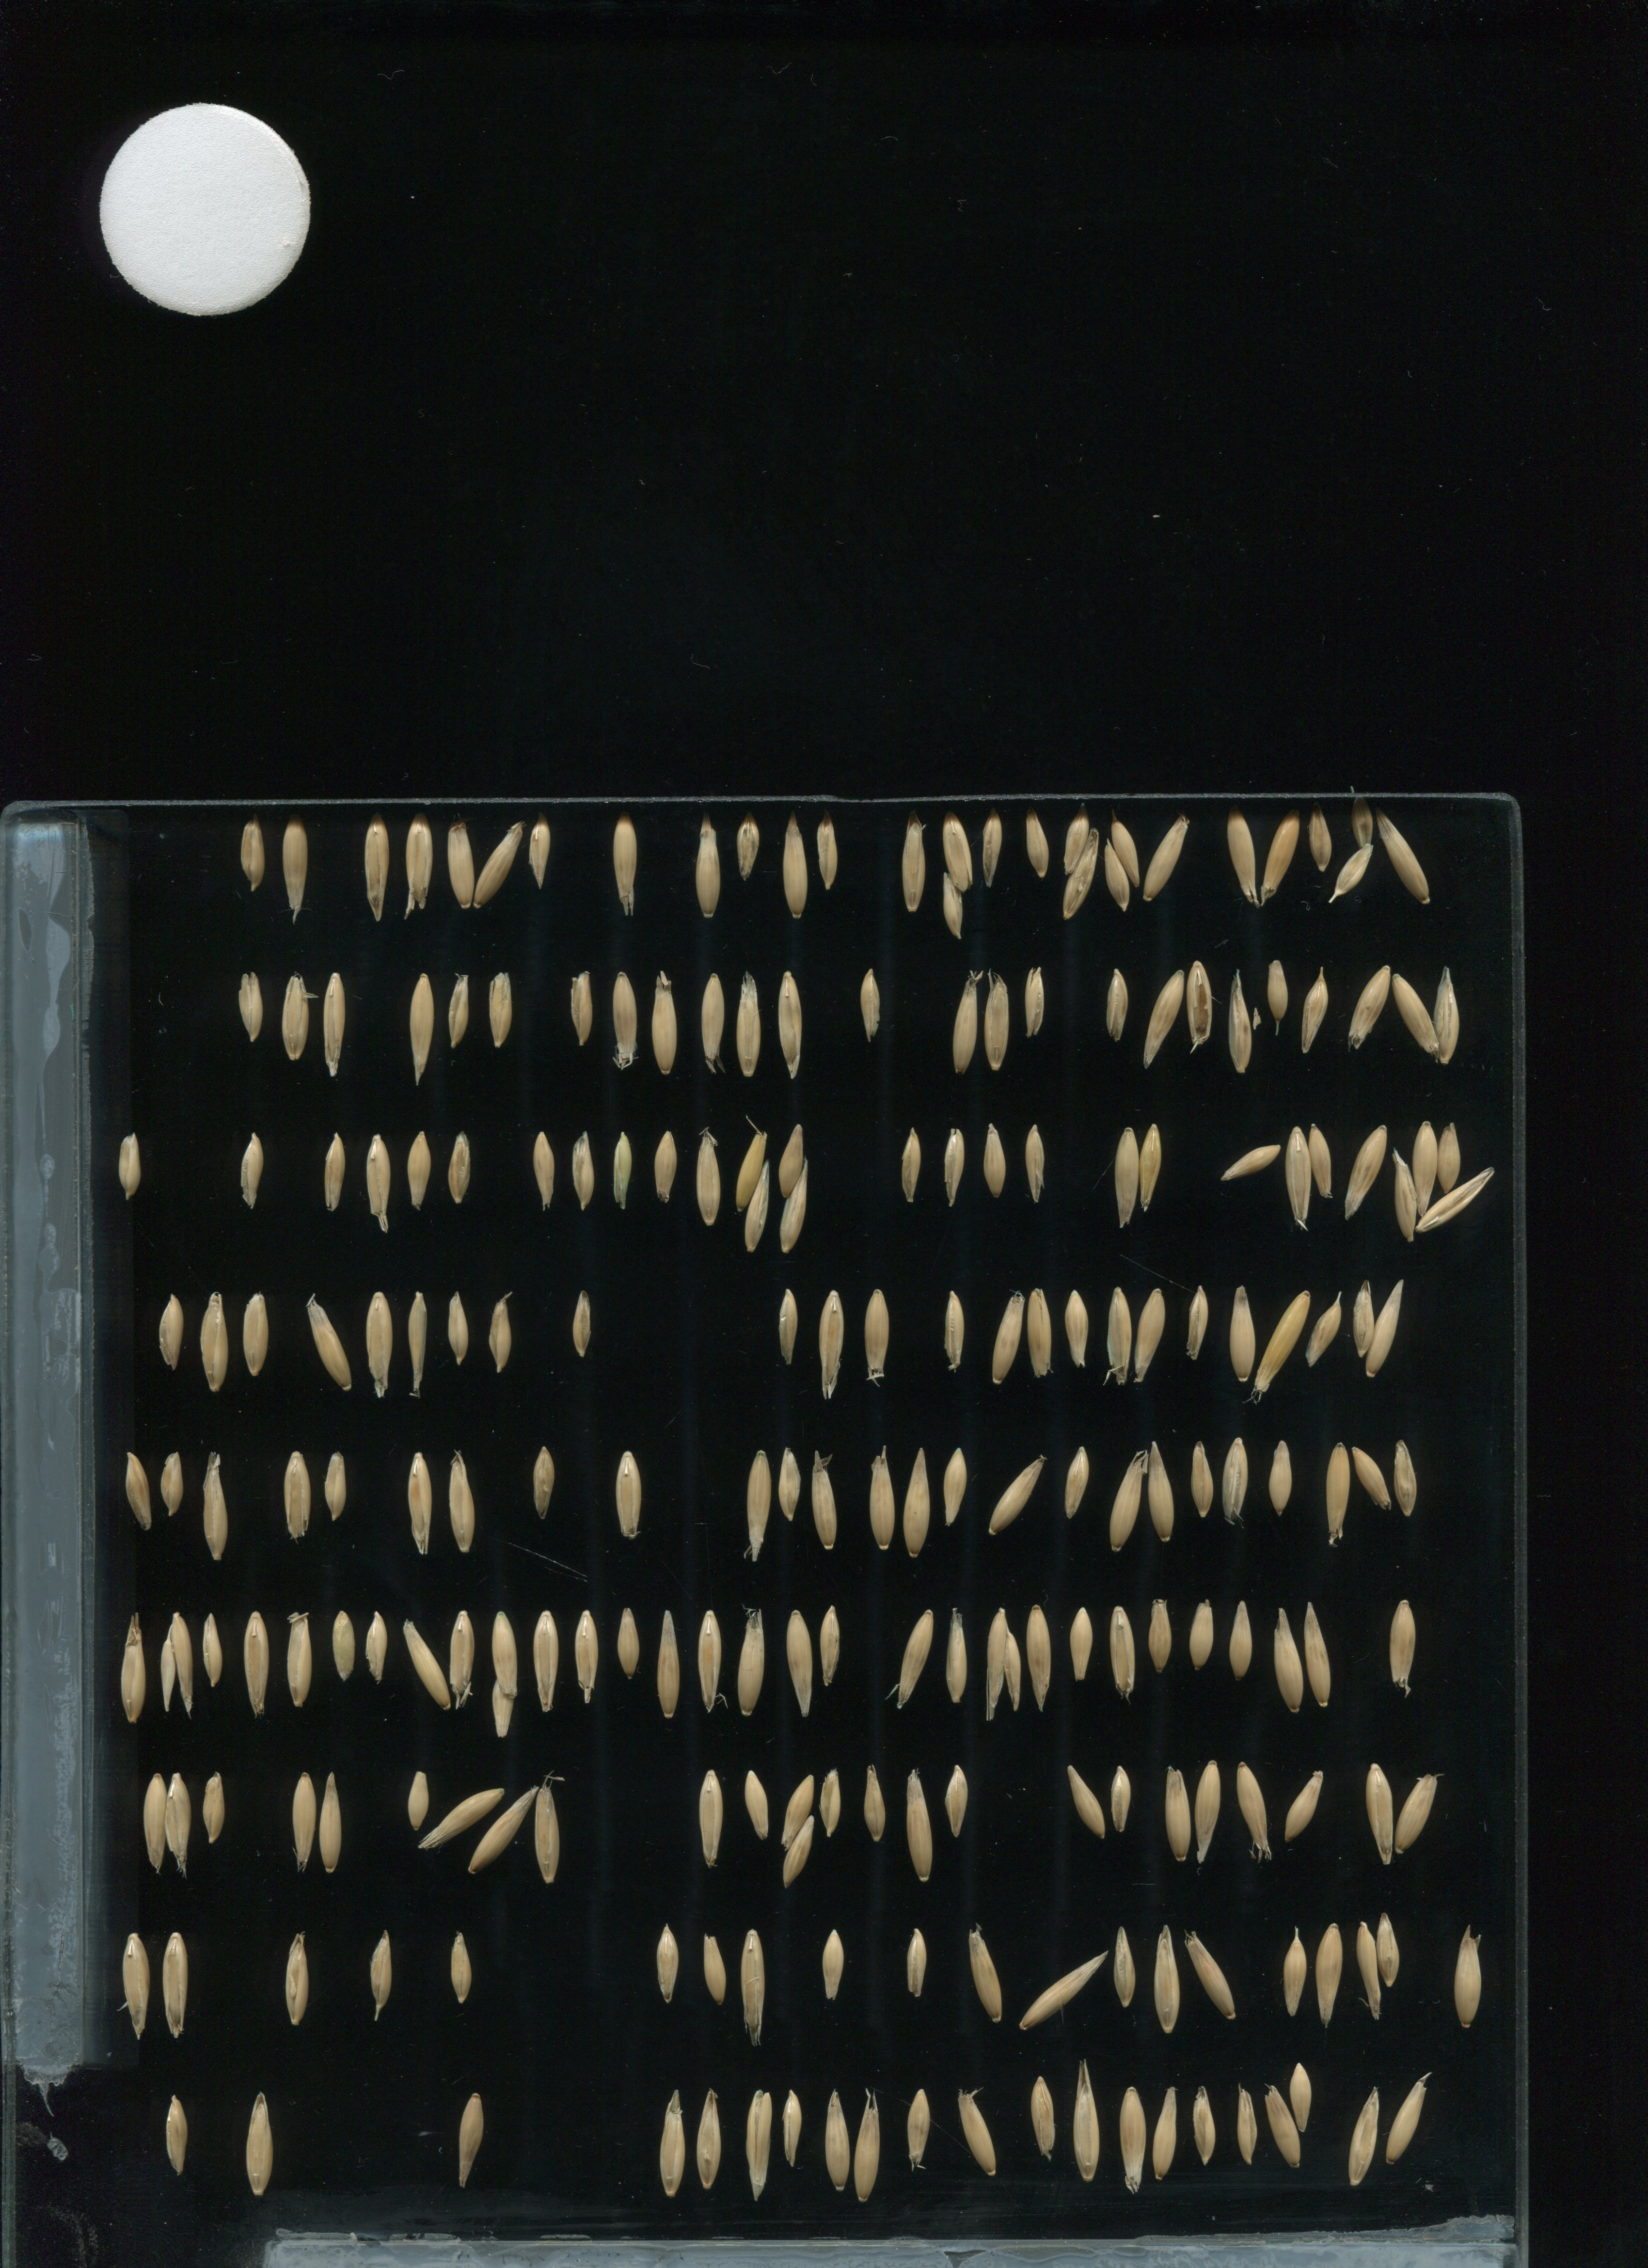NakedGrain: (357, 1609, 393, 1687), (114, 1132, 150, 1208), (317, 1449, 352, 1525), (444, 1930, 479, 2006), (526, 1447, 562, 1523), (1187, 2090, 1222, 2166), (1099, 968, 1134, 1044), (236, 817, 269, 895), (195, 1770, 229, 1847), (563, 970, 597, 1048), (1018, 961, 1051, 1039), (813, 815, 847, 893), (155, 1446, 188, 1521), (326, 1609, 359, 1685), (900, 1926, 933, 2002), (1104, 1761, 1137, 1837), (817, 1763, 850, 1838), (444, 976, 477, 1051), (194, 1611, 227, 1687), (1391, 1442, 1424, 1518), (854, 970, 887, 1046), (731, 808, 764, 884), (1305, 801, 1338, 872), (486, 1296, 514, 1373), (567, 1292, 595, 1370), (444, 1292, 470, 1370), (401, 1768, 431, 1835)
WholeGrain: (1019, 1949, 1111, 2030), (465, 1786, 539, 1875), (1255, 1282, 1308, 1403), (1372, 806, 1433, 910), (1414, 1166, 1498, 1236), (419, 1786, 507, 1852), (981, 1606, 1026, 1726), (303, 1294, 356, 1396), (401, 1616, 454, 1719), (986, 1451, 1046, 1541), (1137, 812, 1190, 910), (1359, 1275, 1407, 1384), (472, 817, 526, 910), (1185, 1928, 1240, 2021), (951, 2083, 1002, 2180), (1259, 2076, 1308, 2175), (1141, 968, 1188, 1069), (1343, 960, 1393, 1055), (1343, 1122, 1391, 1220), (158, 1608, 197, 1727), (894, 1602, 935, 1713), (963, 1923, 1007, 2021), (400, 806, 437, 923), (778, 803, 815, 919), (644, 967, 681, 1083), (979, 967, 1016, 1083), (1058, 1273, 1095, 1389), (1143, 1432, 1180, 1548), (808, 1446, 845, 1562), (609, 1440, 646, 1557), (938, 1602, 975, 1719), (283, 1764, 320, 1881), (528, 1770, 565, 1886), (819, 2083, 856, 2199), (1115, 2078, 1151, 2194), (1261, 803, 1301, 909), (1382, 2074, 1430, 2164), (359, 808, 396, 923), (607, 808, 644, 923), (687, 808, 724, 923), (896, 806, 933, 921), (276, 967, 313, 1081), (401, 968, 438, 1083), (606, 965, 643, 1079), (692, 967, 729, 1081), (731, 968, 768, 1083), (771, 967, 808, 1081), (947, 968, 984, 1083), (1183, 951, 1220, 1065), (1222, 963, 1259, 1078), (1426, 956, 1463, 1071), (1224, 1275, 1261, 1389), (859, 1277, 896, 1391), (403, 1287, 440, 1402), (363, 1285, 400, 1400), (195, 1282, 232, 1396), (238, 1280, 275, 1395), (1317, 1432, 1354, 1546), (444, 1447, 481, 1562), (400, 1447, 437, 1562), (278, 1437, 315, 1551), (114, 1611, 151, 1726), (238, 1606, 275, 1720), (280, 1606, 317, 1720), (570, 1602, 607, 1717), (650, 1604, 687, 1719), (692, 1602, 729, 1717), (1384, 1592, 1421, 1706), (1104, 1595, 1141, 1710), (1023, 1597, 1060, 1712), (160, 1766, 197, 1881), (313, 1764, 350, 1879), (1160, 1757, 1197, 1872), (1192, 1756, 1229, 1870), (1234, 1754, 1271, 1868), (1449, 1918, 1486, 2032), (241, 2085, 278, 2199), (653, 2087, 690, 2201), (738, 2087, 775, 2201), (850, 2092, 887, 2206), (1148, 2080, 1185, 2194), (1278, 1768, 1329, 1851), (1391, 970, 1438, 1058), (1111, 1440, 1146, 1557), (136, 1766, 171, 1882), (1150, 1921, 1185, 2037), (155, 1923, 190, 2039), (1070, 2069, 1106, 2185), (278, 814, 313, 928), (1222, 803, 1257, 917), (315, 968, 350, 1083), (1299, 954, 1335, 1069), (1134, 1278, 1169, 1393), (1102, 1280, 1137, 1395), (1021, 1275, 1056, 1389), (991, 1278, 1026, 1393), (812, 1284, 847, 1398), (155, 1275, 190, 1389), (898, 1442, 933, 1557), (864, 1444, 900, 1558), (739, 1446, 775, 1560), (197, 1451, 232, 1565), (447, 1602, 482, 1717), (526, 1602, 562, 1717), (736, 1602, 771, 1717), (782, 1602, 817, 1717), (1271, 1602, 1306, 1717), (1299, 1597, 1335, 1712), (692, 1763, 727, 1877), (903, 1766, 938, 1881), (1363, 1752, 1398, 1867), (1310, 1918, 1345, 2032), (734, 1928, 769, 2043), (118, 1925, 153, 2039), (454, 2083, 489, 2198), (692, 2083, 727, 2198), (775, 1159, 815, 1257), (1060, 824, 1099, 924), (1394, 1768, 1437, 1859), (738, 1157, 776, 1255), (1345, 2083, 1384, 2182), (1354, 1916, 1387, 2025), (1063, 1761, 1107, 1844), (1107, 1122, 1139, 1234), (1303, 1287, 1345, 1372), (940, 805, 979, 896), (444, 810, 477, 914), (280, 1933, 315, 2030), (157, 2085, 192, 2182), (773, 2085, 808, 2182), (1106, 1919, 1141, 2016), (1347, 1442, 1393, 1516), (361, 1926, 396, 2021), (901, 2080, 937, 2175), (120, 1446, 155, 1537), (692, 1123, 722, 1231), (1282, 1125, 1312, 1233), (780, 1812, 820, 1891), (1410, 1115, 1438, 1227), (361, 1130, 391, 1236), (734, 1129, 771, 1213), (773, 1116, 810, 1201), (812, 1925, 850, 2004), (695, 1928, 734, 2007), (646, 1923, 685, 2002), (1329, 836, 1375, 903), (1026, 2069, 1060, 2161), (780, 1768, 815, 1854), (1387, 1150, 1419, 1245), (1107, 806, 1143, 891), (491, 1608, 523, 1699), (1060, 799, 1095, 879), (484, 968, 516, 1055), (894, 1123, 926, 1210), (1185, 1439, 1217, 1525), (1144, 1594, 1176, 1680), (1282, 1923, 1308, 2025), (523, 810, 555, 895), (236, 1129, 268, 1213), (606, 1129, 637, 1213), (979, 1123, 1011, 1208), (1019, 1123, 1051, 1208), (938, 1291, 970, 1375), (1062, 1440, 1093, 1525), (812, 1604, 843, 1689), (942, 1763, 974, 1847), (1021, 806, 1056, 882), (1285, 2057, 1319, 2136), (1220, 1141, 1285, 1182), (1373, 1914, 1407, 1992), (530, 1127, 560, 1213), (775, 1285, 805, 1372), (775, 1440, 805, 1527), (1220, 1437, 1250, 1523), (1187, 1594, 1217, 1680), (1225, 1599, 1255, 1685), (859, 1761, 889, 1847), (1305, 1123, 1336, 1204), (236, 965, 266, 1049), (319, 1132, 349, 1217), (405, 1130, 435, 1215), (444, 1129, 474, 1213), (567, 1127, 597, 1211), (651, 1127, 681, 1211), (938, 1125, 968, 1210), (1134, 1123, 1164, 1208), (1183, 1282, 1213, 1366), (940, 1446, 970, 1530), (1264, 1435, 1294, 1520), (613, 1602, 643, 1687), (1067, 1604, 1097, 1689), (741, 1761, 771, 1845), (1437, 1123, 1468, 1201), (1234, 2080, 1261, 2169), (1104, 833, 1132, 916), (486, 1673, 518, 1743), (981, 808, 1007, 891), (1352, 1273, 1377, 1361), (940, 866, 967, 942), (1349, 785, 1375, 852)
